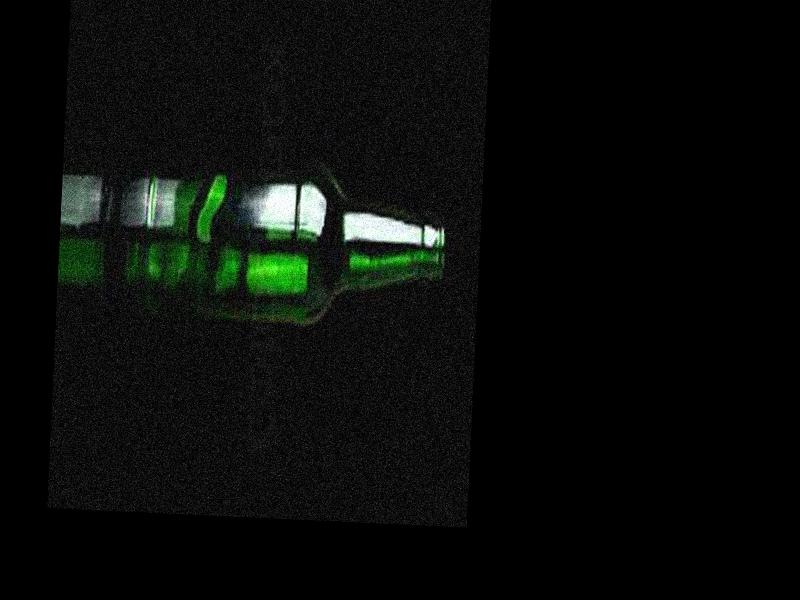Beer: (140, 175, 447, 332)
